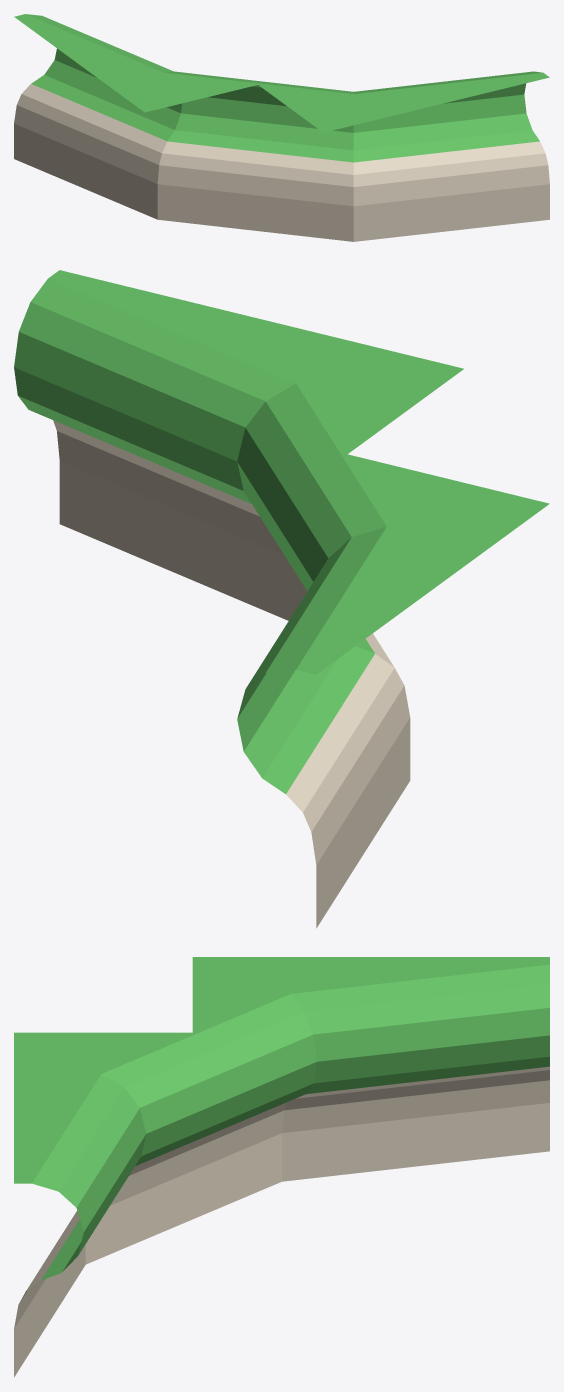
The model's file is Escarpment_Terrain_Corner_Inner_3x3_Top.glb.
3 views of the same model, one above another, from view 1: azimuth 30°, elevation 25°; view 2: azimuth 150°, elevation 25°; view 3: azimuth 270°, elevation 25° (orthographic). The views are drawn at different scales.
Visible parts, largest first — view 1: Escarpment_Terrain_Corner_Inner_3x3_Top; view 2: Escarpment_Terrain_Corner_Inner_3x3_Top; view 3: Escarpment_Terrain_Corner_Inner_3x3_Top.
Boxes of the visible parts, box(x1,y1,x2,y2) form: Escarpment_Terrain_Corner_Inner_3x3_Top: box(14, 14, 549, 241); Escarpment_Terrain_Corner_Inner_3x3_Top: box(14, 270, 549, 928); Escarpment_Terrain_Corner_Inner_3x3_Top: box(14, 957, 549, 1377).
Bounding box in the file's own units: 1.01 × 0.4032 × 1.01.
